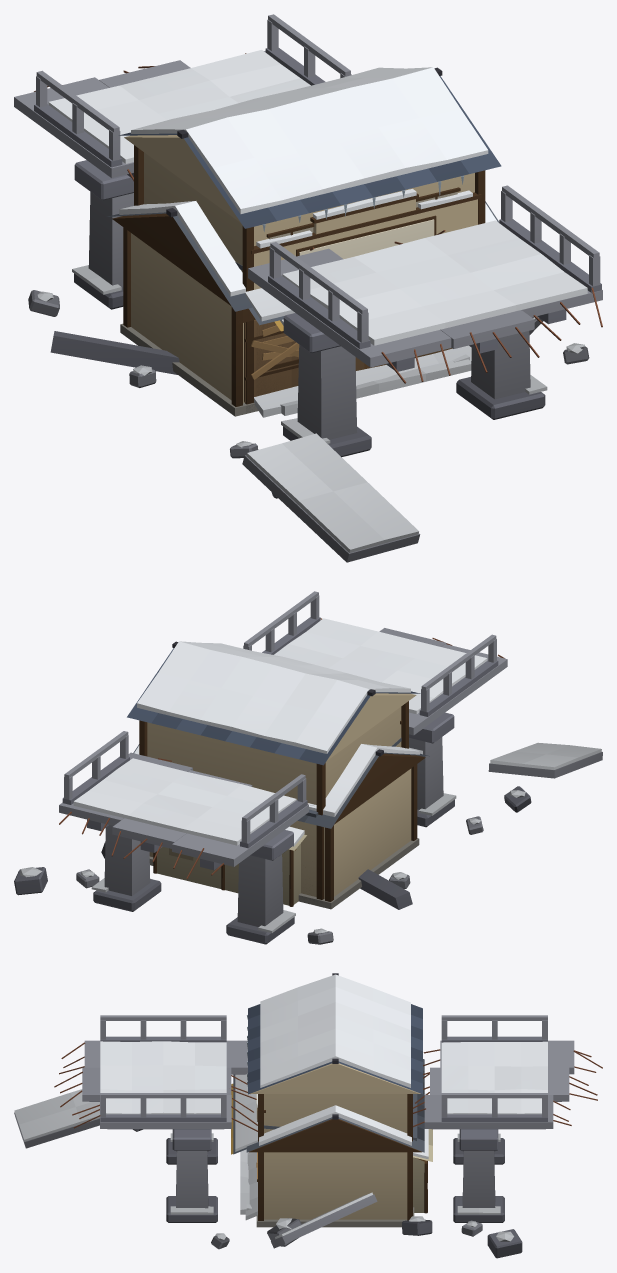
File: refuge.glb
3 views of the same model, one above another, from view 1: azimuth 30°, elevation 25°; view 2: azimuth 150°, elevation 25°; view 3: azimuth 270°, elevation 25° (orthographic). The views are drawn at different scales.
Parts seen in each view (by area): view 1: rf_bridge, rf_shop_b, rf_shop_a, rf_shop_c, rf_class; view 2: rf_bridge, rf_shop_b, rf_shop_a, rf_class, rf_shop_c; view 3: rf_bridge, rf_shop_b, rf_shop_a, rf_class, rf_shop_c.
Boxes of the visible parts, <box> form: rf_bridge: <box>14,14,602,562</box>; rf_shop_b: <box>119,67,501,413</box>; rf_shop_a: <box>107,201,498,417</box>; rf_shop_c: <box>235,189,481,403</box>; rf_class: <box>280,354,471,415</box>; rf_bridge: <box>14,591,602,944</box>; rf_shop_b: <box>127,641,422,903</box>; rf_shop_a: <box>133,744,429,909</box>; rf_class: <box>153,826,306,906</box>; rf_shop_c: <box>149,720,402,905</box>; rf_bridge: <box>14,1015,602,1258</box>; rf_shop_b: <box>233,973,422,1217</box>; rf_shop_a: <box>245,1059,424,1227</box>; rf_class: <box>240,1093,432,1214</box>; rf_shop_c: <box>231,1083,417,1154</box>.
Size of the model in its own units: 12.25 by 7.05 by 20.53.
